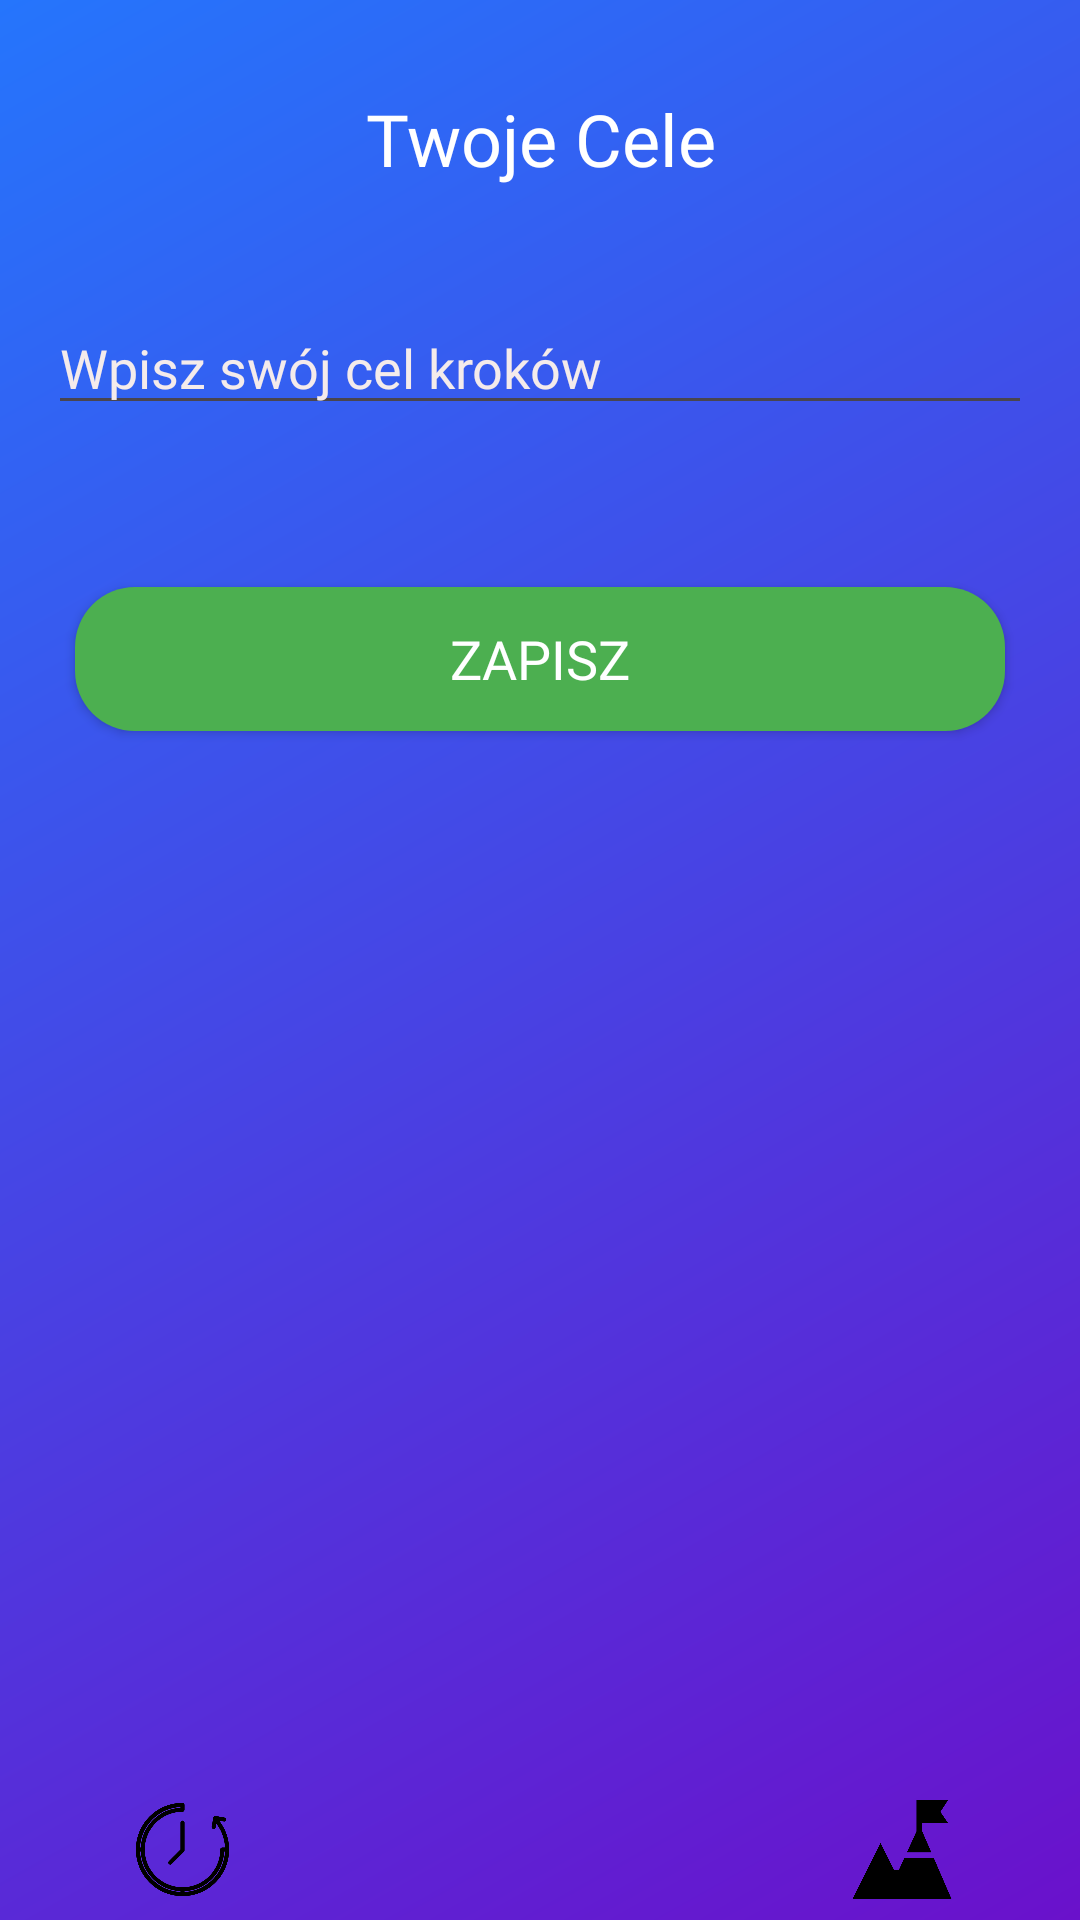

Named icons in this screenshot (1080×1920) and their centers, point (x, y):
Cele: point (902, 1849)
Historia: point (182, 1849)
